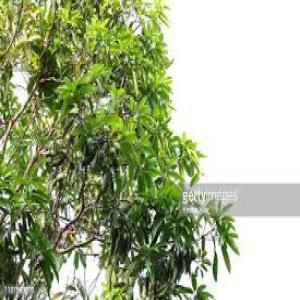Tree: (2, 2, 240, 292)
